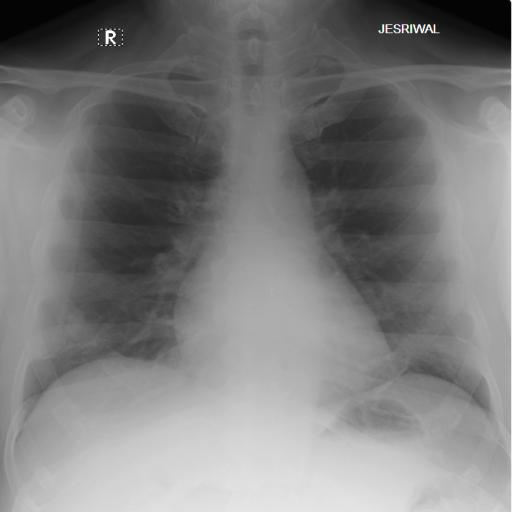normal: (11, 31, 502, 435)
